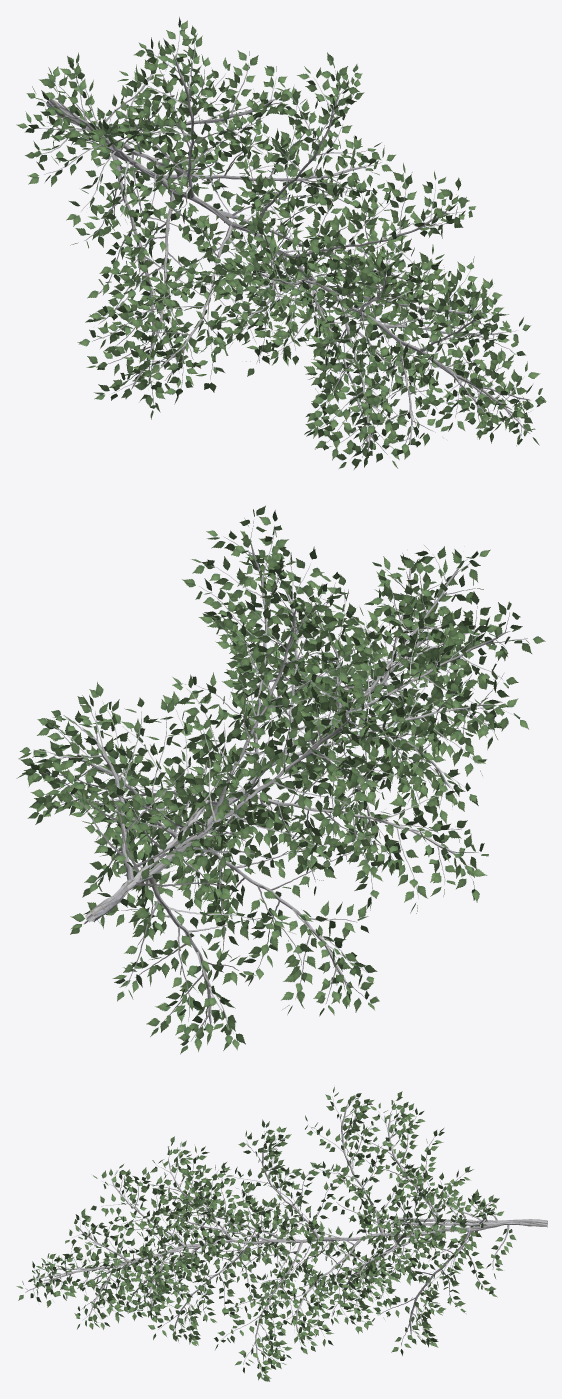
The model's file is BL03y_transparent.obj.
3 renders of one model, top to bottom at view 1: azimuth 30°, elevation 25°; view 2: azimuth 150°, elevation 25°; view 3: azimuth 270°, elevation 25°, orthographic. The views are drawn at different scales.
Parts seen in each view (by area): view 1: BL03y; view 2: BL03y; view 3: BL03y.
Boxes of the visible parts, x1=… form: BL03y: x1=16, y1=17, x2=546, y2=469; BL03y: x1=16, y1=505, x2=545, y2=1054; BL03y: x1=16, y1=1087, x2=547, y2=1381.
Size of the model in its own units: 2.04 by 2.19 by 4.1.
2 materials, 2 textured.
